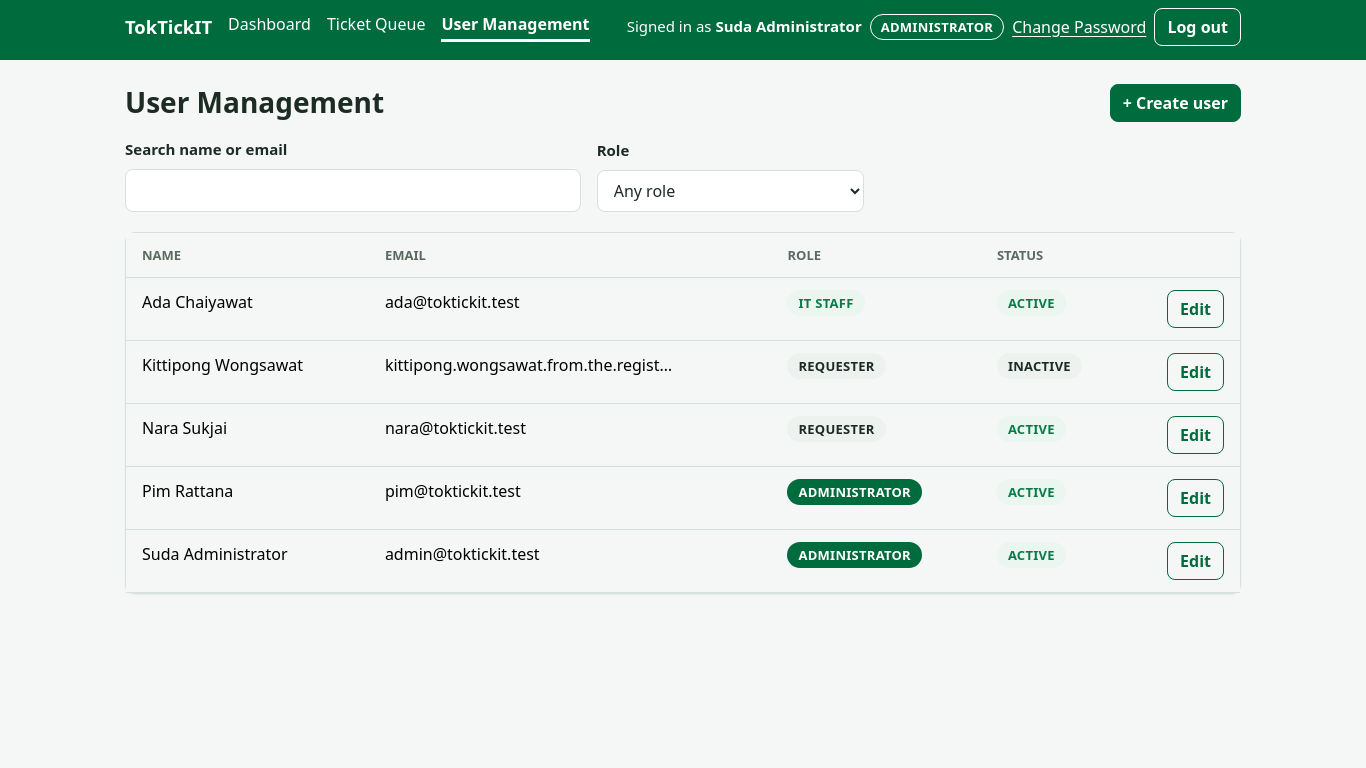
UI-29 the role and activation controls (BR-22, BR-47) › validates name, email, and password before sending
Click the button "+ Create user" at (1175, 103), box [1110,84,1241,122]
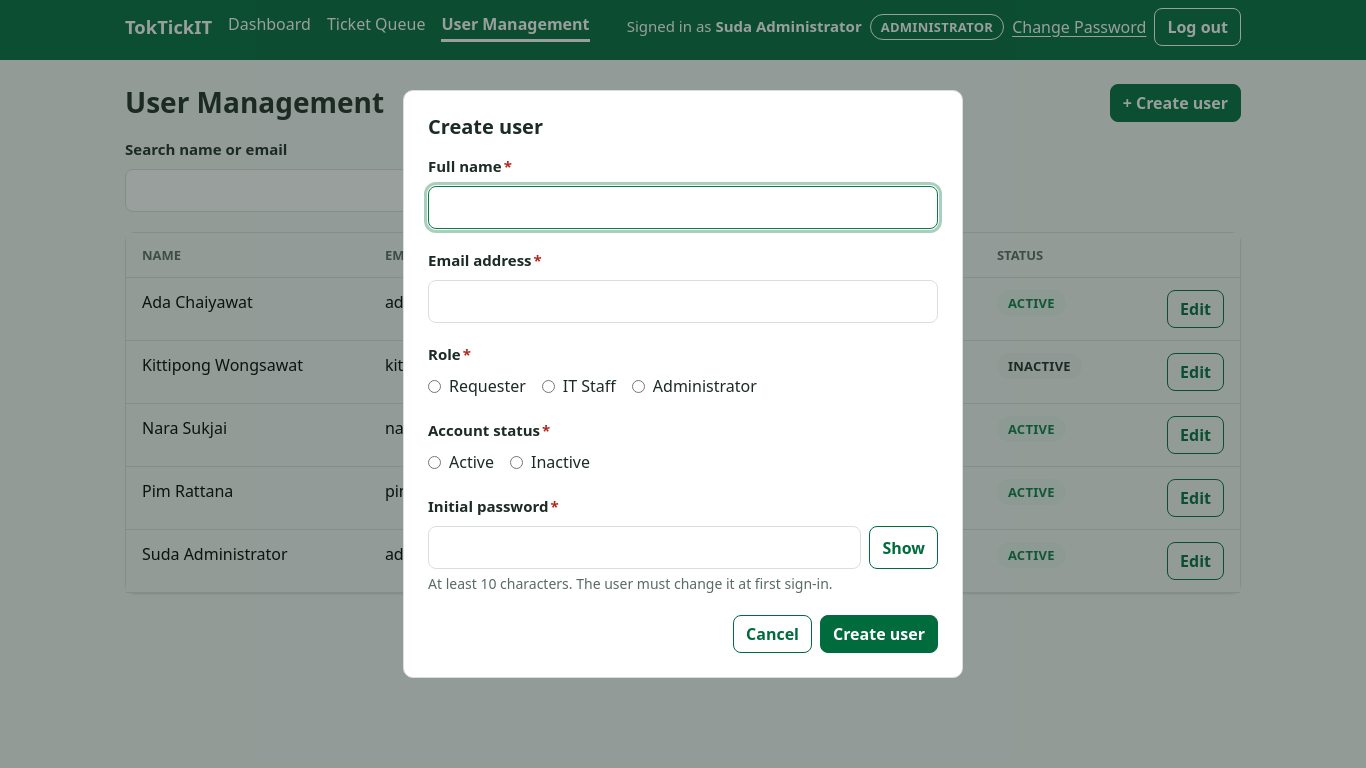
Type "M" into the field labelled "Full name*" at (683, 208), box [428,186,938,229]
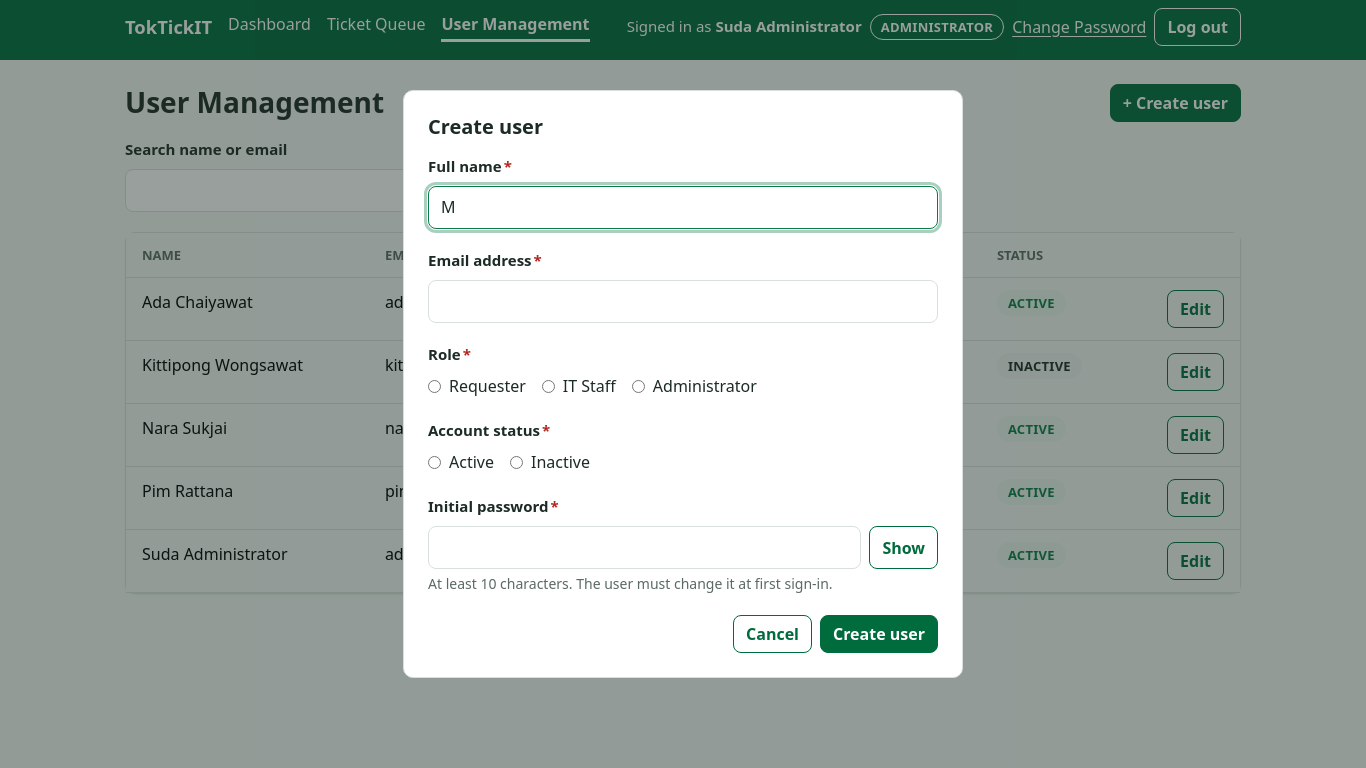
Type "not-an-email" into the field labelled "Email address*" at (683, 302), box [428,280,938,323]
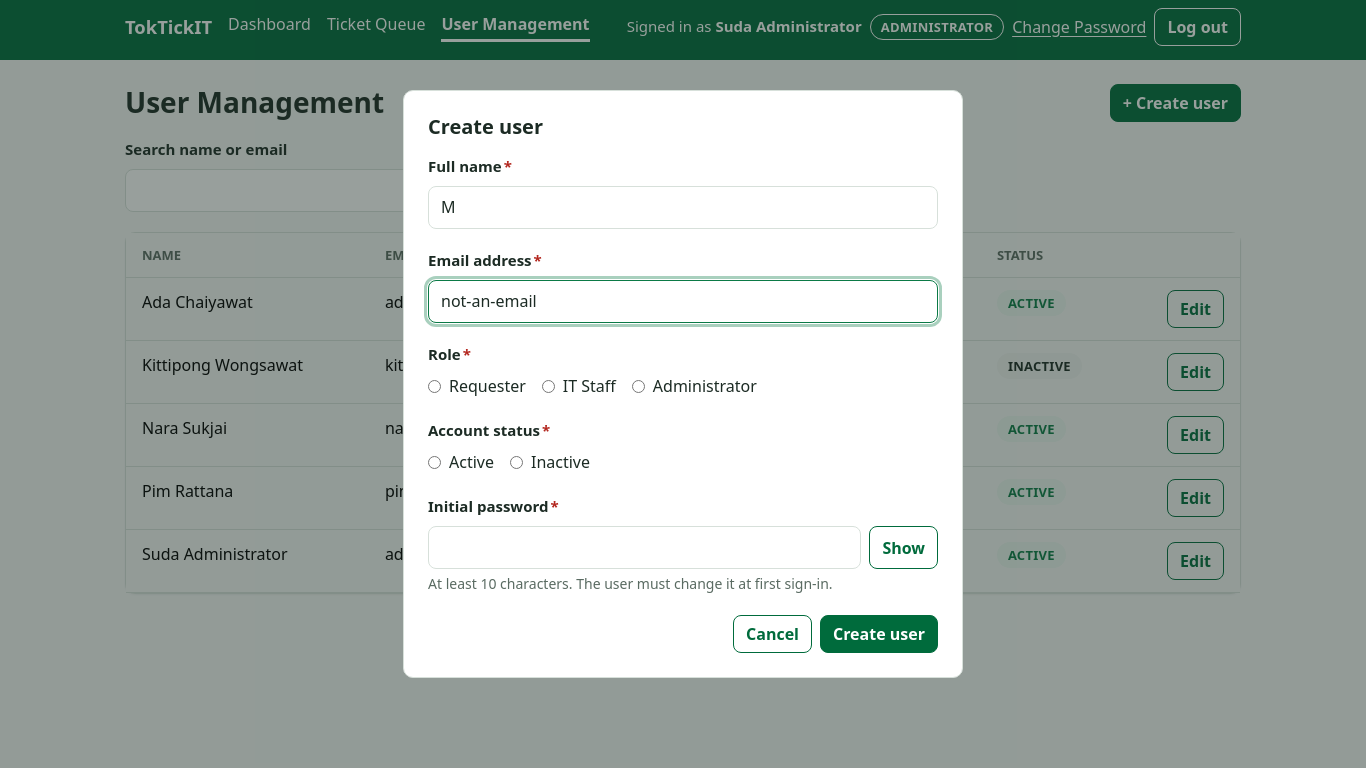
Type "short" into the password field labelled "Initial password*" at (645, 548), box [428,526,861,569]
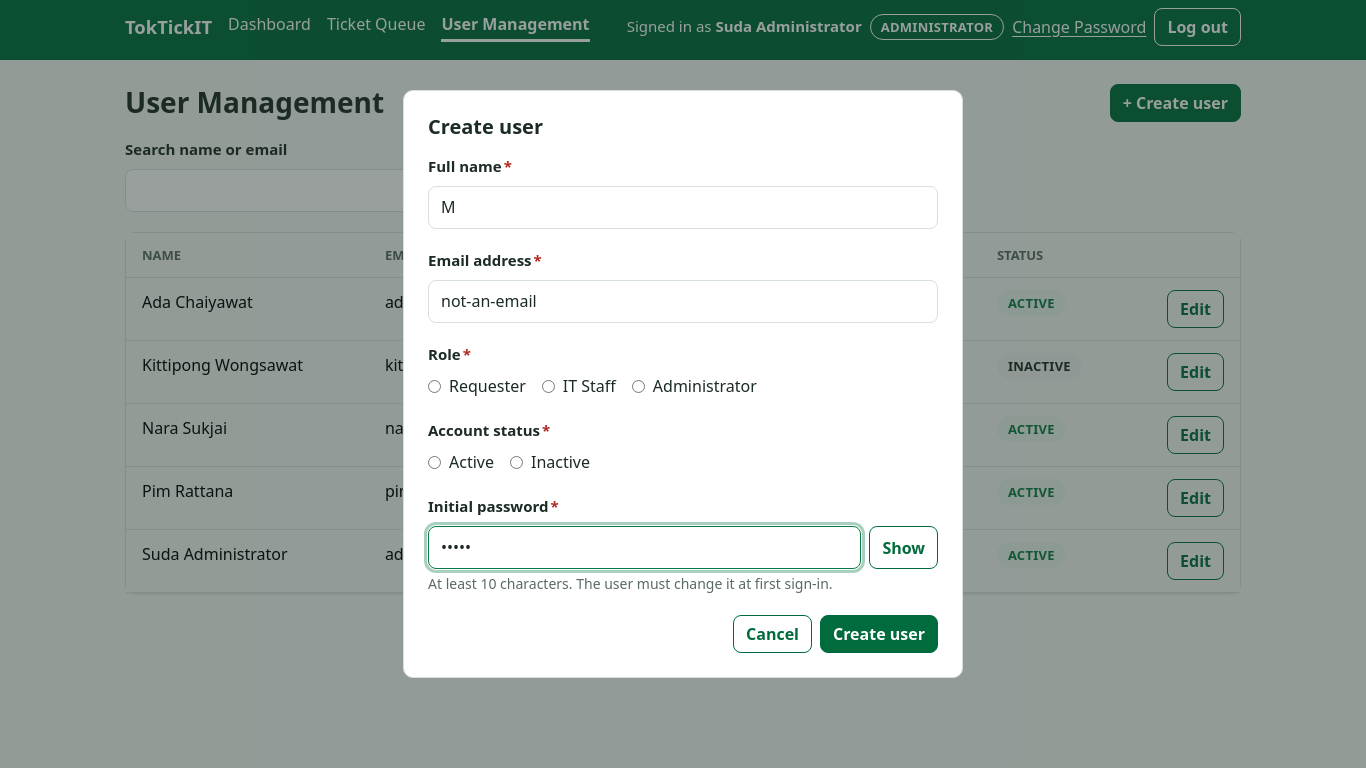
Click the button "Create user" at (879, 634), box [820,615,938,653]
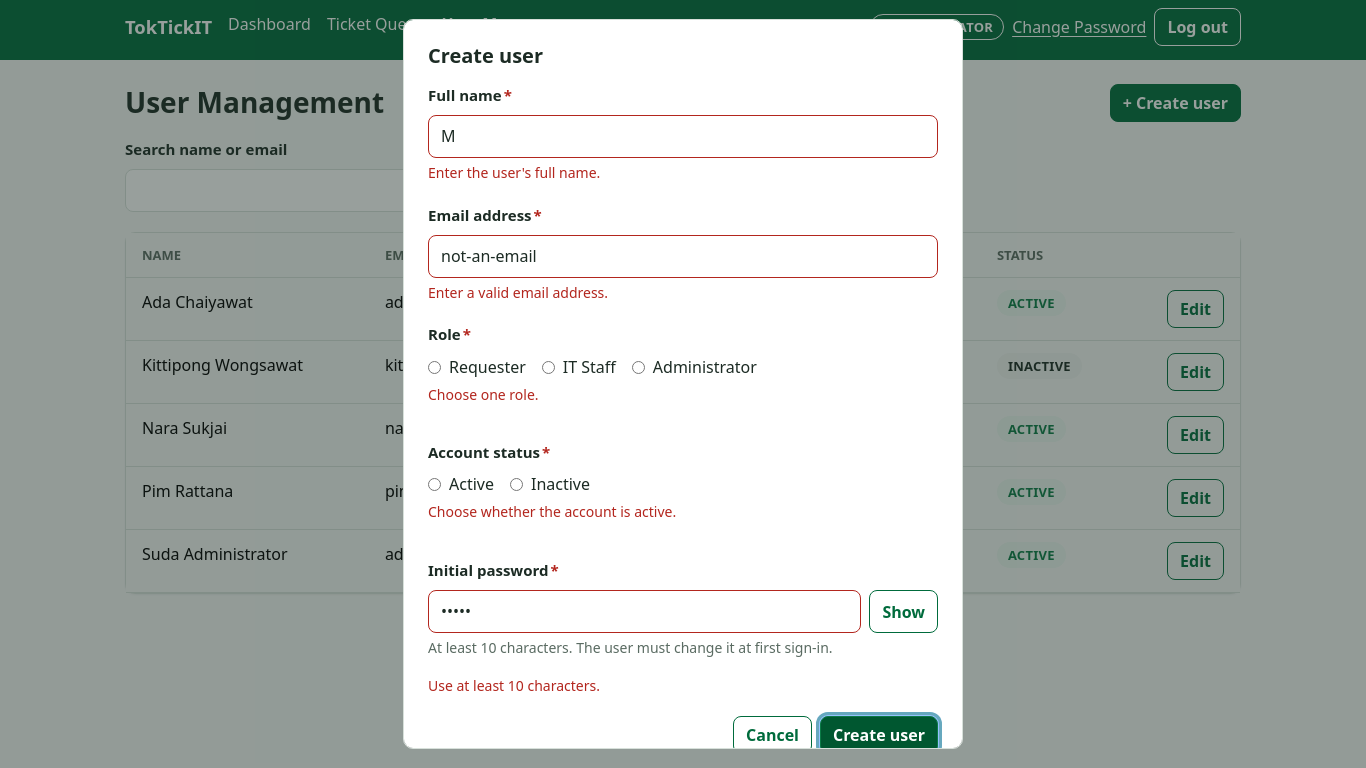
Expected: the text "Enter the user's full name." is shown, [428,163,600,182]
Expected: the text "Enter a valid email address." is shown, [428,283,608,302]
Expected: the text "Use at least 10 characters." is shown, [428,676,600,695]
